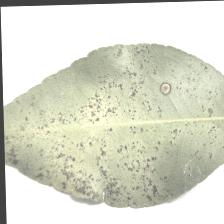canker: (42, 123, 150, 191)
